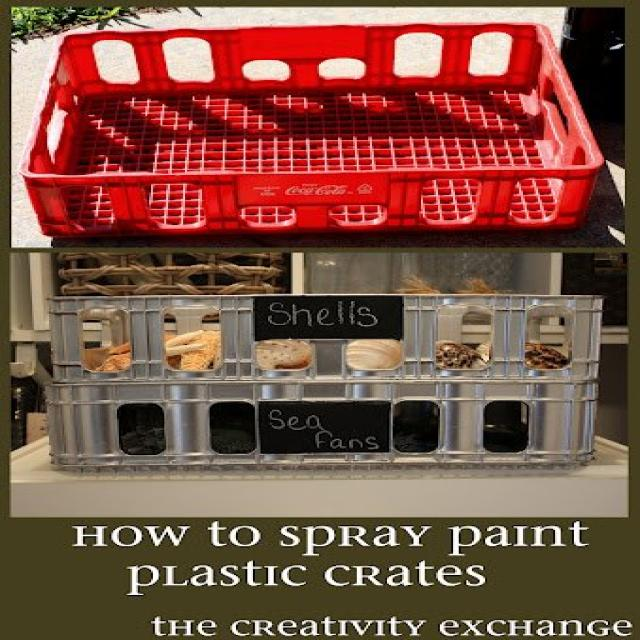basket: (18, 19, 605, 238), (47, 294, 603, 470)
